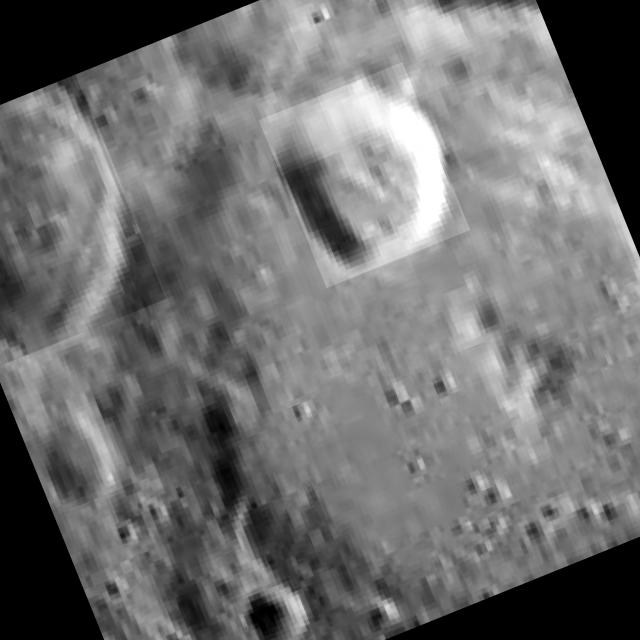crater: (0, 74, 165, 367), (258, 61, 470, 288), (229, 575, 311, 640)
